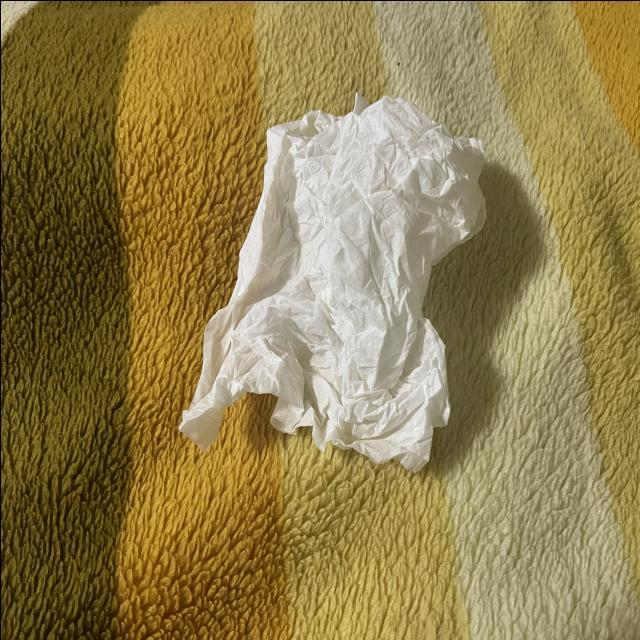Paper: (188, 104, 486, 464)
